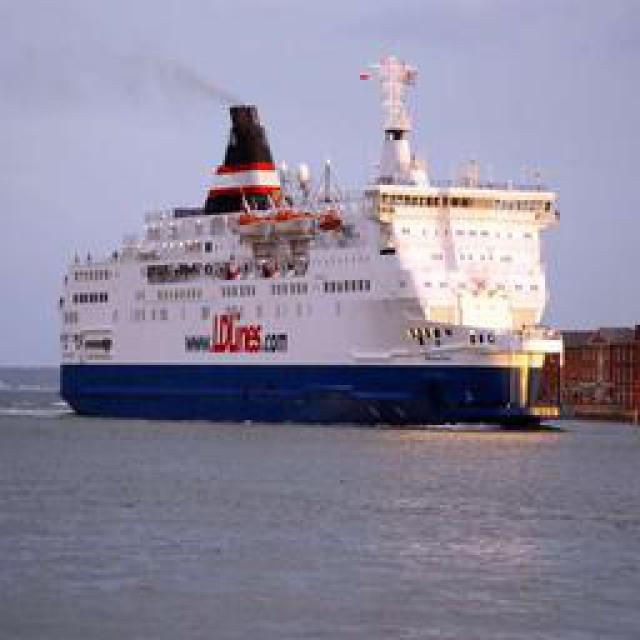Ship: (48, 82, 566, 422)
